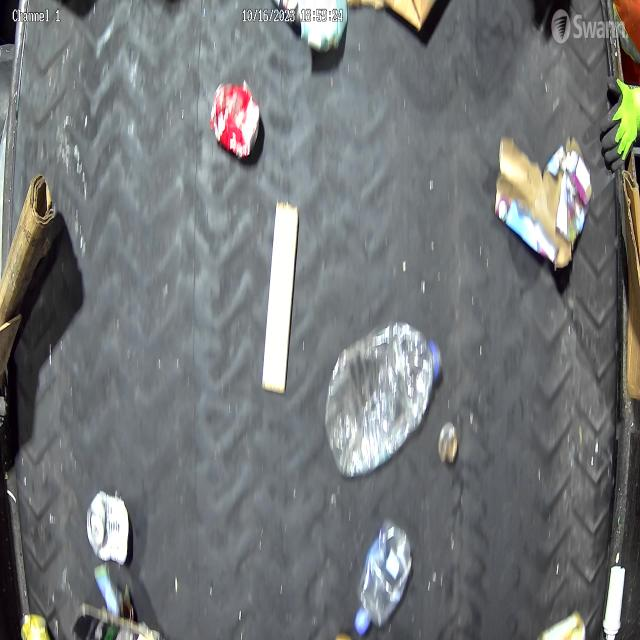can: (209, 82, 261, 159), (86, 491, 130, 562)
plastic_bottle: (325, 318, 442, 476), (353, 515, 413, 640)
